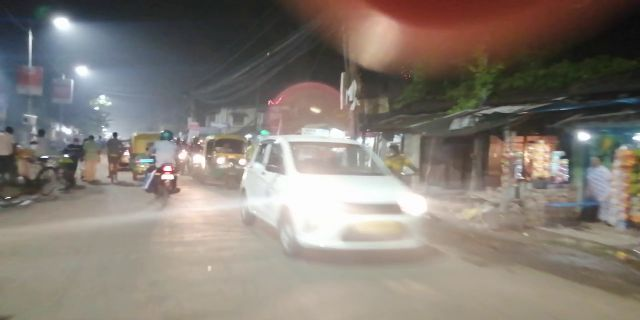Autorickshaw: (204, 132, 242, 189)
Car: (252, 128, 434, 264)
Motorbike: (145, 126, 179, 205)
